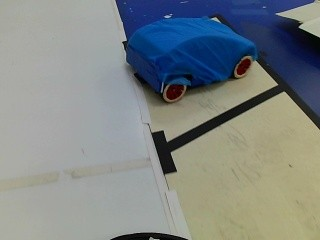car: (115, 15, 258, 95)
